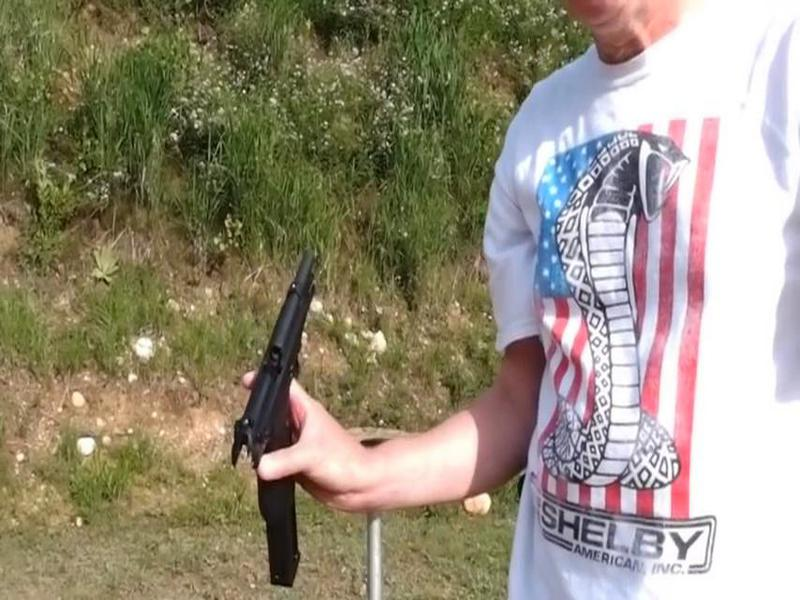Pistola: (211, 224, 345, 600)
